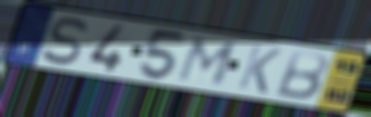4: (86, 22, 128, 74)
5: (135, 26, 195, 82)
B: (272, 48, 330, 102)
K: (234, 42, 284, 96)
M: (174, 35, 242, 87)
S: (39, 16, 90, 68)
